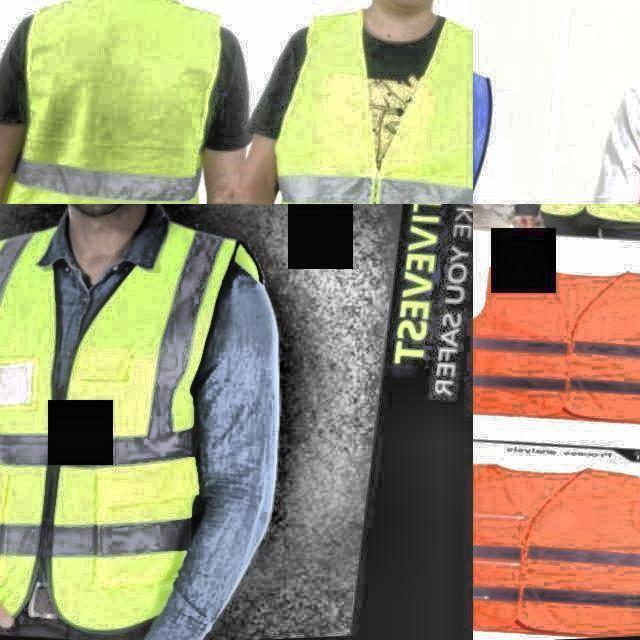safety_jacket: (0, 236, 219, 628), (0, 0, 223, 204), (273, 6, 473, 204)
